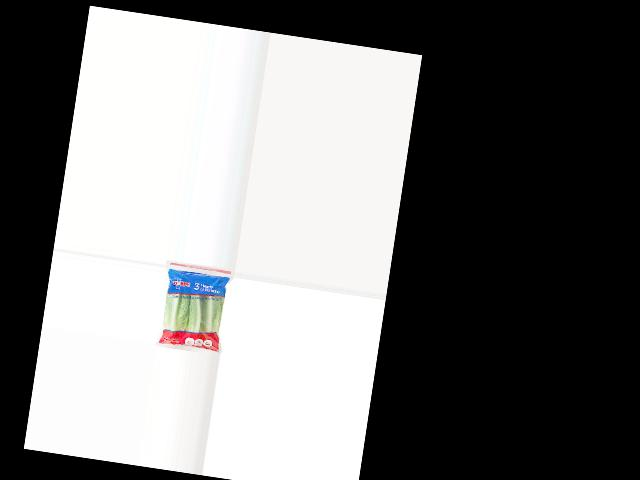lettuce: (153, 264, 231, 355)
